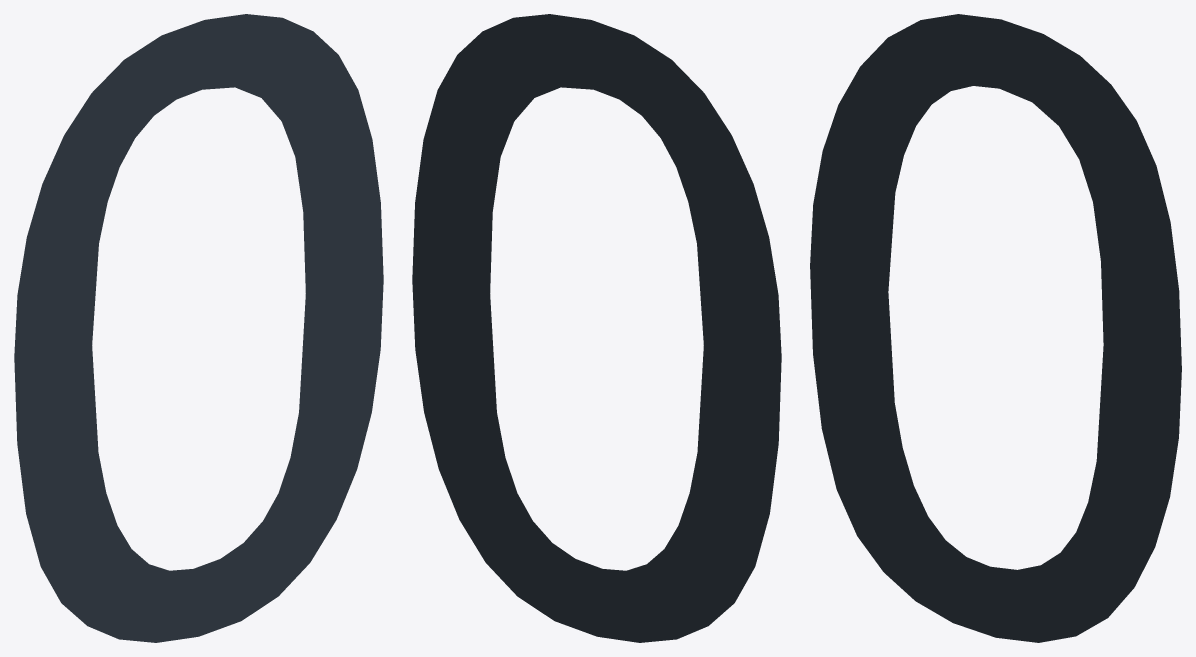
Rendered from original-10.obj.
3 views of the same model, side by side, from view 1: azimuth 30°, elevation 25°; view 2: azimuth 150°, elevation 25°; view 3: azimuth 330°, elevation 25° (orthographic).
Parts seen in each view (by area): view 1: _0_1/_0/mesh10/mesh10-geometry#mesh10-geometry; view 2: _0_1/_0/mesh10/mesh10-geometry#mesh10-geometry; view 3: _0_1/_0/mesh10/mesh10-geometry#mesh10-geometry.
Boxes of the visible parts, <box> form: _0_1/_0/mesh10/mesh10-geometry#mesh10-geometry: <box>14,14,383,642</box>; _0_1/_0/mesh10/mesh10-geometry#mesh10-geometry: <box>412,14,781,642</box>; _0_1/_0/mesh10/mesh10-geometry#mesh10-geometry: <box>810,14,1181,642</box>.
Bounding box in the file's own units: 0.00639 × 0.0102 × 0.
